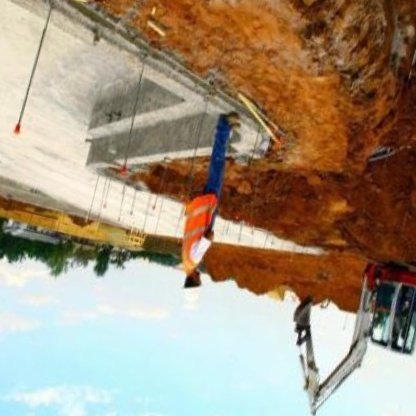vest: (164, 186, 222, 281)
white: (173, 278, 205, 310)
